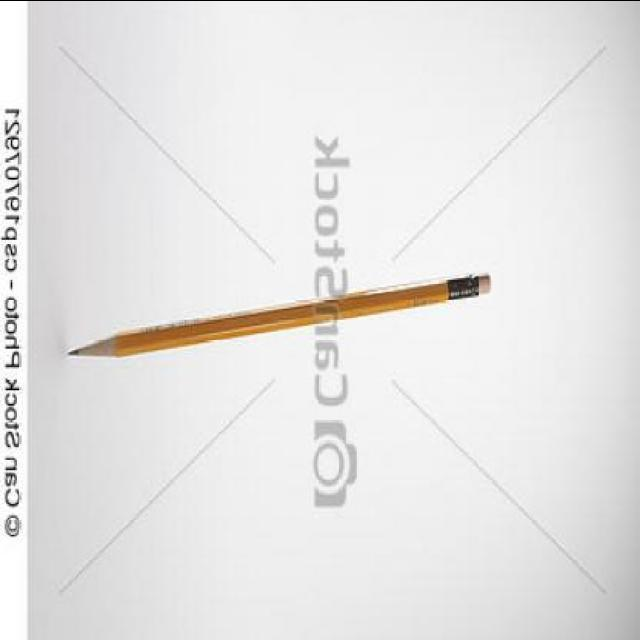pencil: (63, 318, 132, 380)
